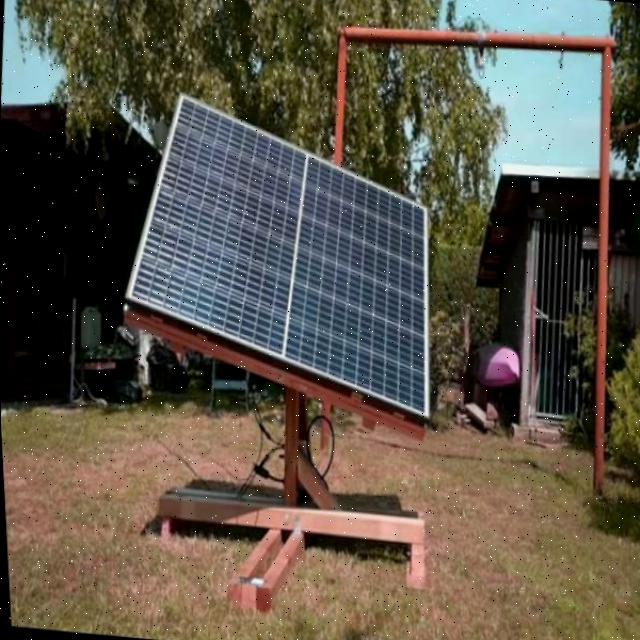Normal Solar Panel: (108, 91, 450, 418)
